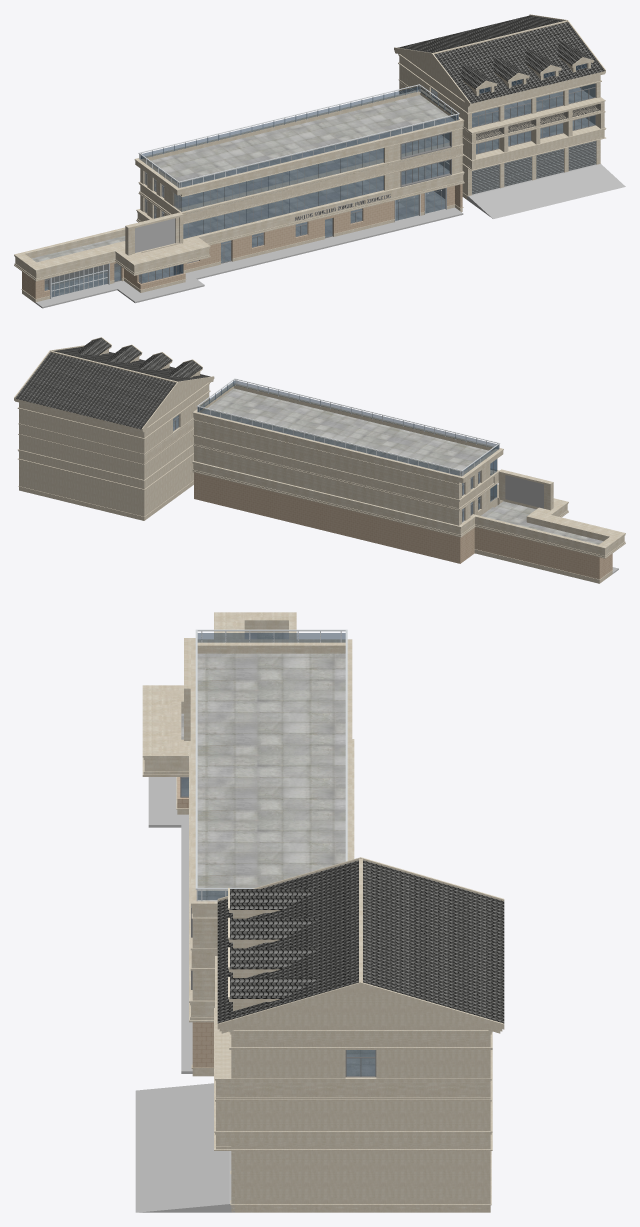
File: gzl_njgj.FBX
3 views of the same model, one above another, from view 1: azimuth 30°, elevation 25°; view 2: azimuth 150°, elevation 25°; view 3: azimuth 270°, elevation 25° (orthographic). The views are drawn at different scales.
Visible parts, largest first — view 1: gzl_njgj_106, gzl_njgj_126, gzl_njgj_86, gzl_njgj_39, gzl_njgj_107, gzl_njgj_122, gzl_njgj_43, gzl_njgj_95, gzl_njgj_109, gzl_njgj_79, gzl_njgj_07, gzl_njgj_124 (+35 smaller); view 2: gzl_njgj_104, gzl_njgj_19, gzl_njgj_106, gzl_njgj_96, gzl_njgj_126, gzl_njgj_125, gzl_njgj_107, gzl_njgj_109, gzl_njgj_91, gzl_njgj_18, gzl_njgj_22, gzl_njgj_27 (+18 smaller); view 3: gzl_njgj_106, gzl_njgj_13, gzl_njgj_125, gzl_njgj_43, gzl_njgj_39, gzl_njgj_126, gzl_njgj_33, gzl_njgj_22, gzl_njgj_107, gzl_njgj_27, gzl_njgj_40, gzl_njgj_36 (+9 smaller).
Part boxes in pixels (box(x1,y1,x2,y2)): gzl_njgj_106: box(148, 95, 455, 208); gzl_njgj_126: box(14, 161, 464, 281); gzl_njgj_86: box(181, 148, 383, 238); gzl_njgj_39: box(434, 22, 604, 103); gzl_njgj_107: box(134, 89, 464, 196); gzl_njgj_122: box(32, 163, 449, 262); gzl_njgj_43: box(467, 164, 625, 218); gzl_njgj_95: box(117, 207, 463, 303); gzl_njgj_109: box(140, 86, 458, 187); gzl_njgj_79: box(177, 186, 454, 271); gzl_njgj_07: box(472, 141, 596, 194); gzl_njgj_124: box(44, 191, 445, 297); gzl_njgj_104: box(194, 420, 457, 524); gzl_njgj_19: box(20, 409, 142, 516); gzl_njgj_106: box(201, 388, 491, 494); gzl_njgj_96: box(194, 472, 474, 563); gzl_njgj_126: box(192, 460, 625, 558); gzl_njgj_125: box(15, 352, 176, 429); gzl_njgj_107: box(192, 383, 503, 484); gzl_njgj_109: box(198, 380, 498, 475); gzl_njgj_91: box(474, 527, 611, 579); gzl_njgj_18: box(142, 393, 208, 516); gzl_njgj_22: box(18, 444, 193, 489); gzl_njgj_27: box(17, 382, 210, 439); gzl_njgj_106: box(197, 653, 345, 901); gzl_njgj_13: box(235, 1050, 490, 1203); gzl_njgj_125: box(363, 860, 504, 1023); gzl_njgj_43: box(135, 1083, 234, 1212); gzl_njgj_39: box(217, 860, 358, 1023); gzl_njgj_126: box(142, 612, 354, 1022); gzl_njgj_33: box(230, 889, 319, 998); gzl_njgj_22: box(214, 1008, 492, 1150); gzl_njgj_107: box(191, 639, 352, 918); gzl_njgj_27: box(229, 1030, 492, 1049); gzl_njgj_40: box(235, 993, 486, 1029); gzl_njgj_36: box(217, 857, 504, 1033).
Bounding box in the file's own units: 64800 × 13300 × 19165.
